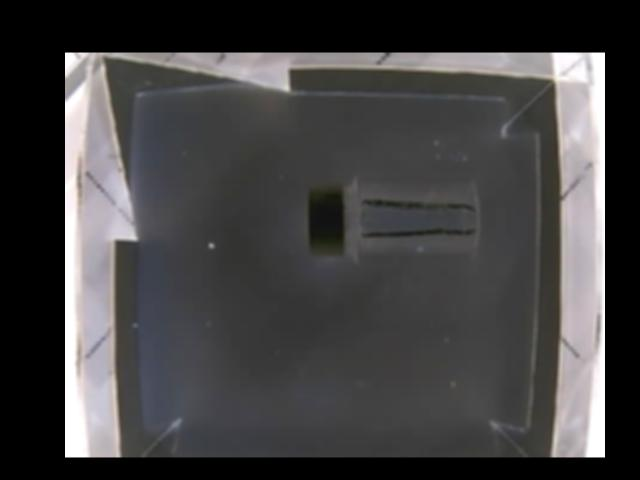Bottle: (305, 176, 480, 265)
